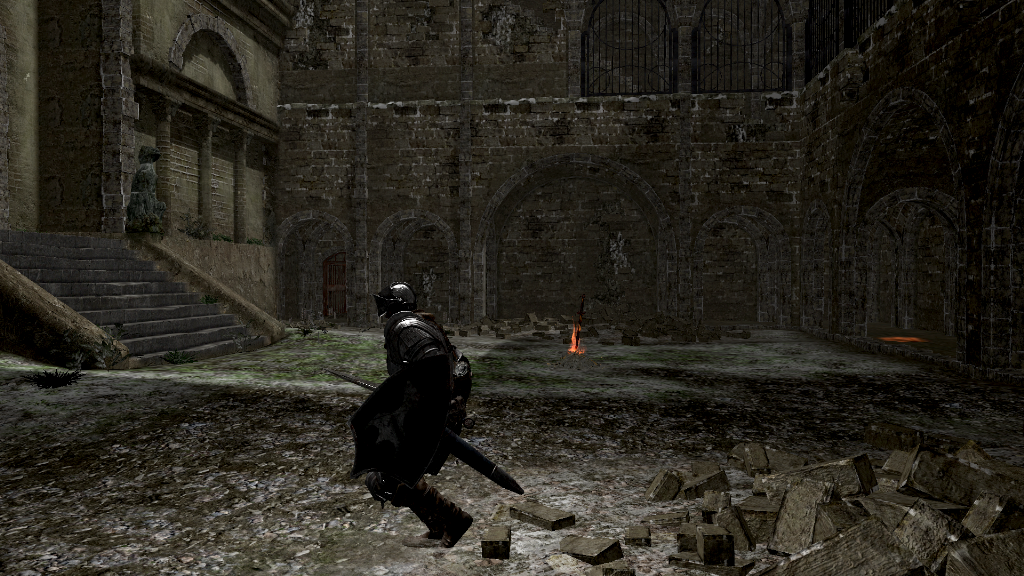bonfire: (565, 294, 589, 358)
player: (324, 280, 475, 548)
